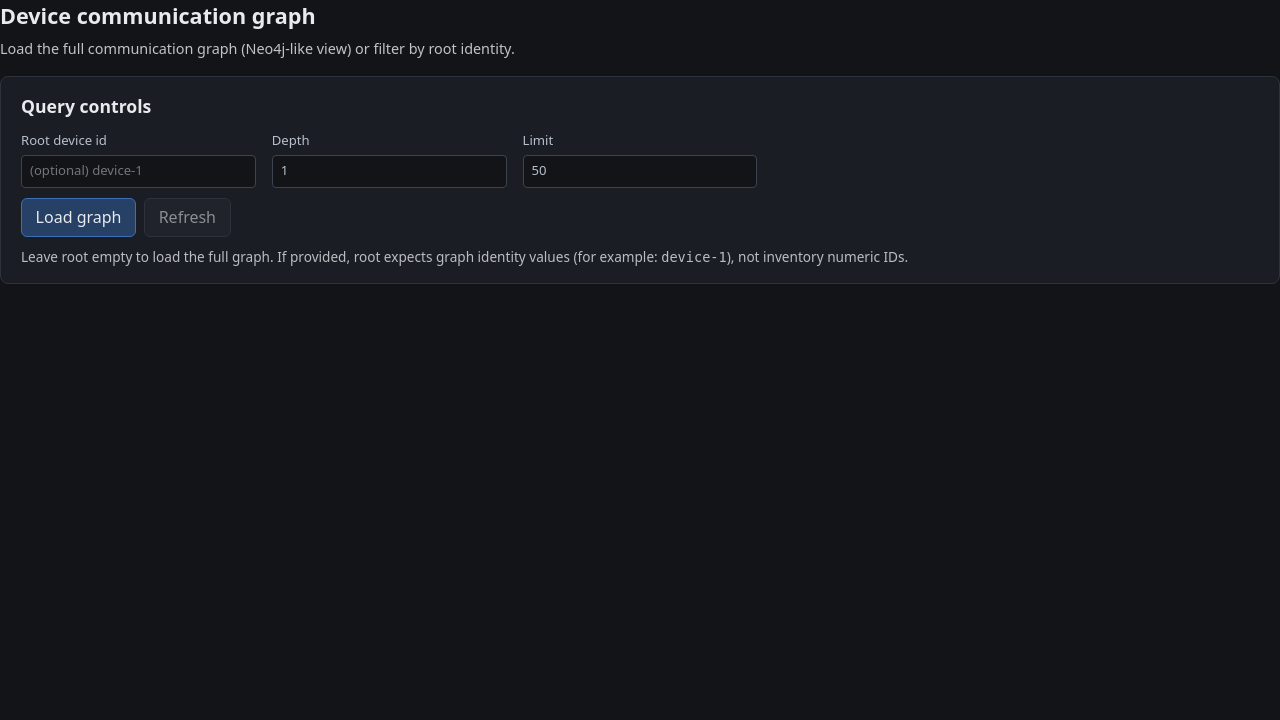
Test case: DeviceGraphPage › renders graph data when query succeeds
The image size is (1280, 720).
Step 1. Type "api-root" into the field labelled "Root device id" → (138, 171), box [21,155,256,188]
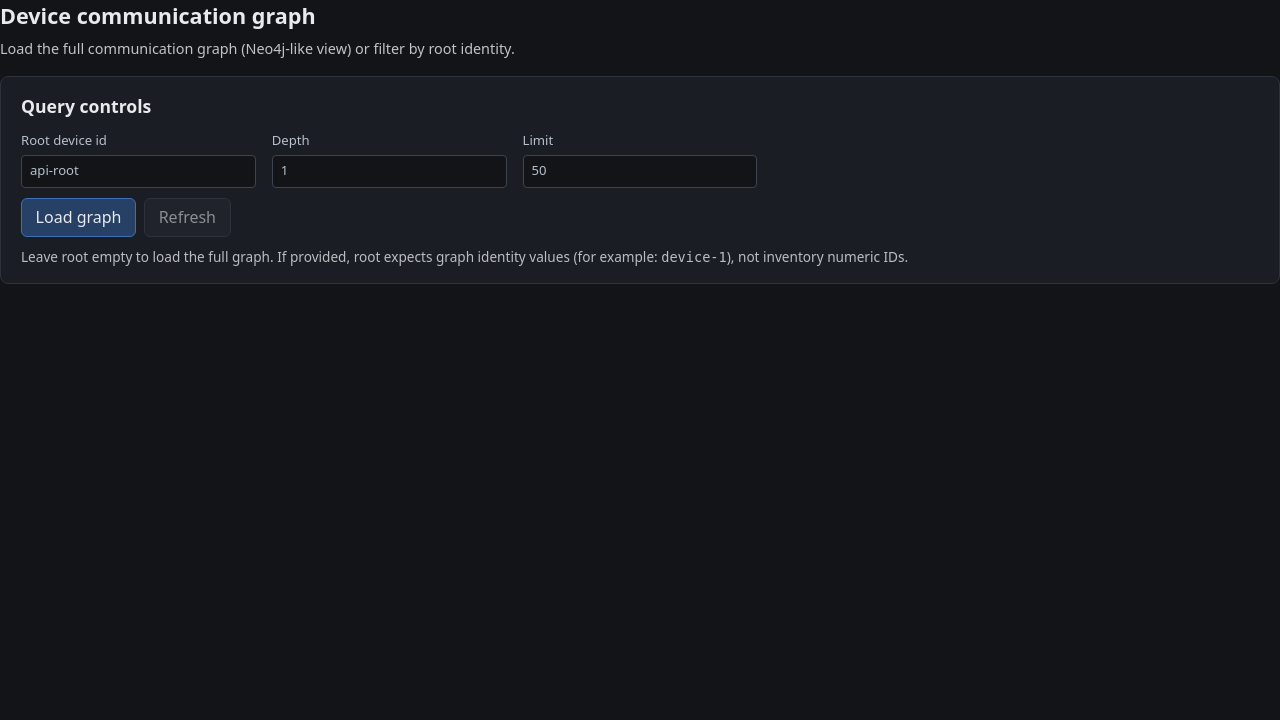
Step 2. Click the button "Load graph" → (79, 217), box [21,198,136,237]
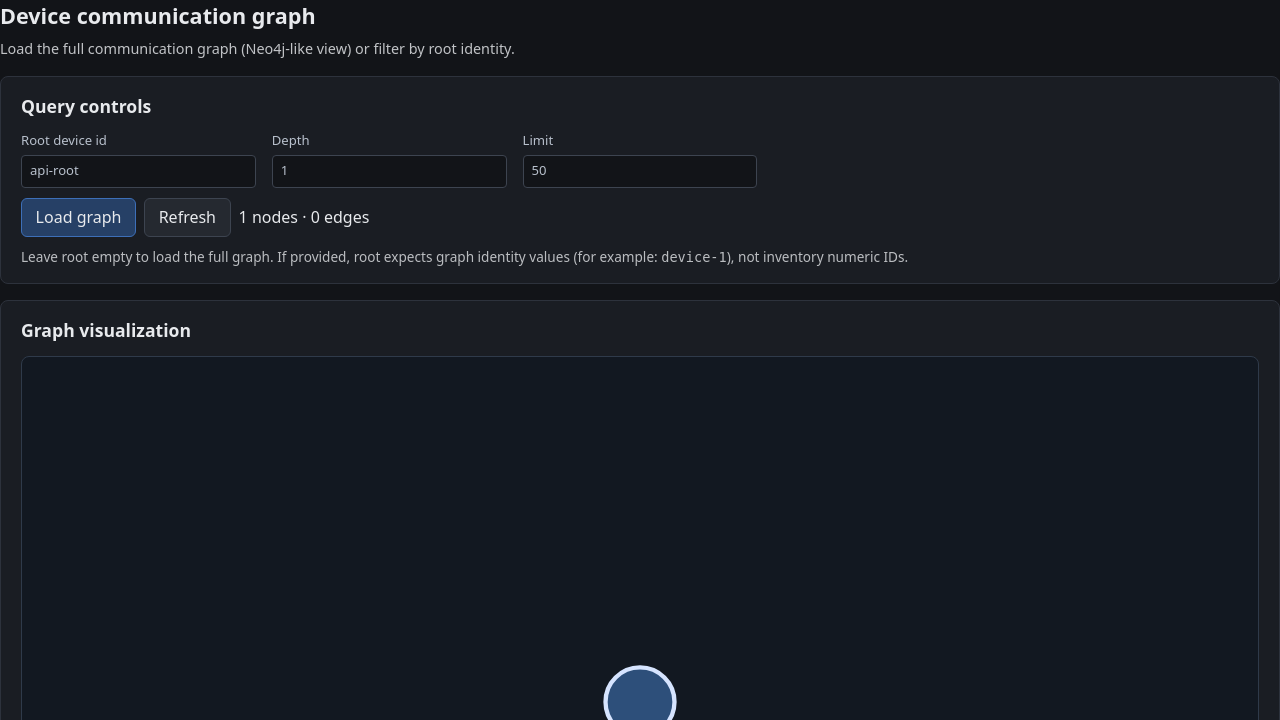
Now the heading "Graph visualization" is shown, box [21,318,191,342]
Now the text "1 nodes · 0 edges" is shown, box [239,205,369,229]
